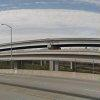Bridge: (4, 34, 98, 75)
